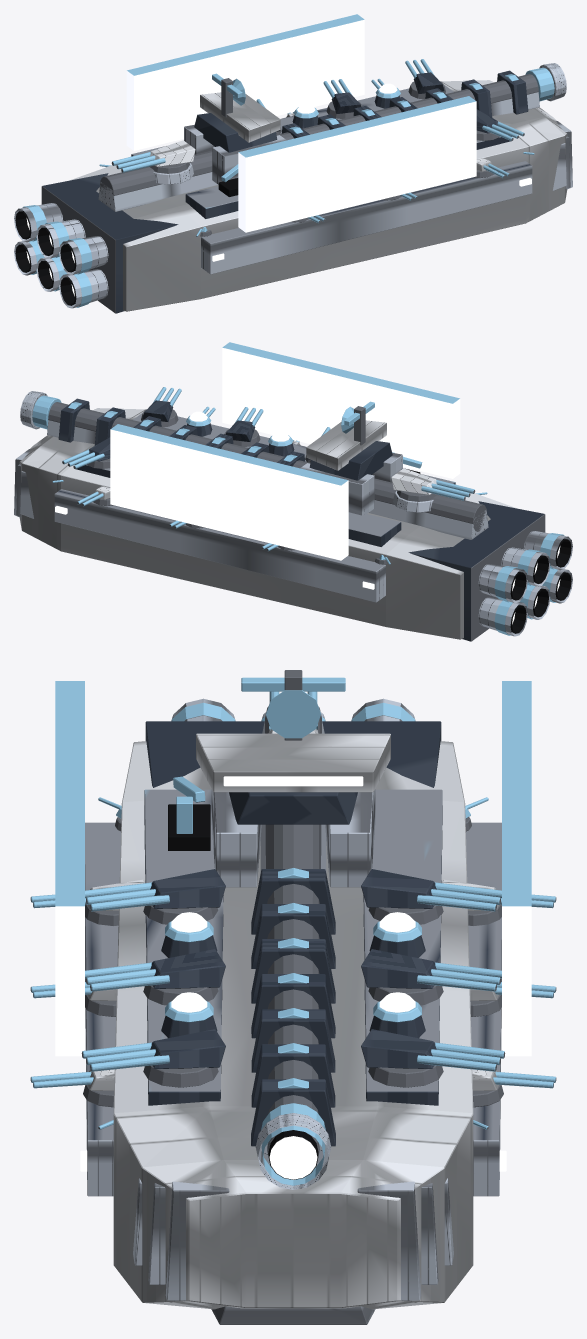
File: battleship.glb
The picture shows the model from 3 angles, top to bottom: view 1: azimuth 30°, elevation 25°; view 2: azimuth 150°, elevation 25°; view 3: azimuth 270°, elevation 25°; orthographic projection. The views are drawn at different scales.
Visible parts, largest first — view 1: nexulan_convergence_battleship; view 2: nexulan_convergence_battleship; view 3: nexulan_convergence_battleship.
Boxes of the visible parts, bbox=[...] form: nexulan_convergence_battleship: bbox=[14, 14, 572, 313]; nexulan_convergence_battleship: bbox=[14, 342, 572, 641]; nexulan_convergence_battleship: bbox=[30, 670, 556, 1324].
Bounding box in the file's own units: 60 × 19.71 × 26.64.
Materials: 1 (1 with a texture image).
